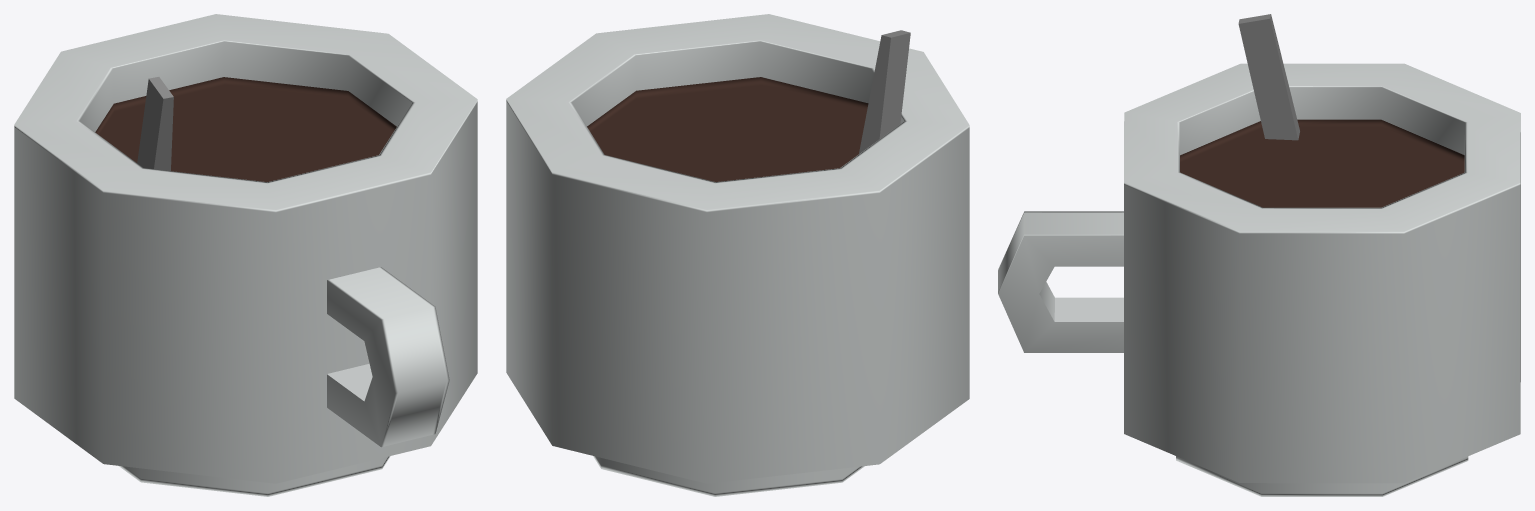
File: Tazacafe.fbx
3 renders of one model, left to right at view 1: azimuth 30°, elevation 25°; view 2: azimuth 150°, elevation 25°; view 3: azimuth 270°, elevation 25°, orthographic. The views are drawn at different scales.
Visible parts, largest first — view 1: TazaCafe; view 2: TazaCafe; view 3: TazaCafe.
Part boxes in pixels (box(x1,y1,x2,y2)): TazaCafe: box(14, 14, 477, 496); TazaCafe: box(506, 14, 969, 496); TazaCafe: box(998, 14, 1520, 496).
Size of the model in its own units: 0.1858 by 0.1885 by 0.2447.
